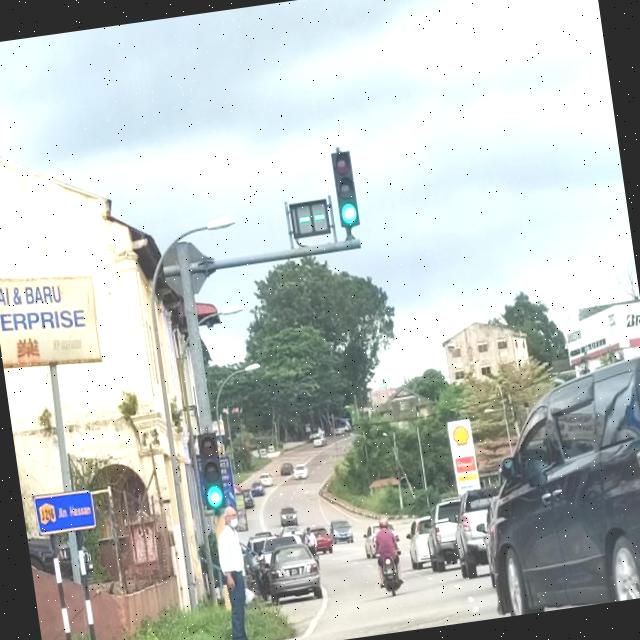green_light: (197, 431, 227, 510), (331, 150, 360, 228)
